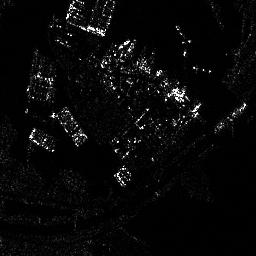ship: (212, 101, 246, 131)
